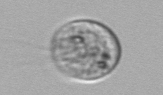plankton: (48, 14, 122, 84)
